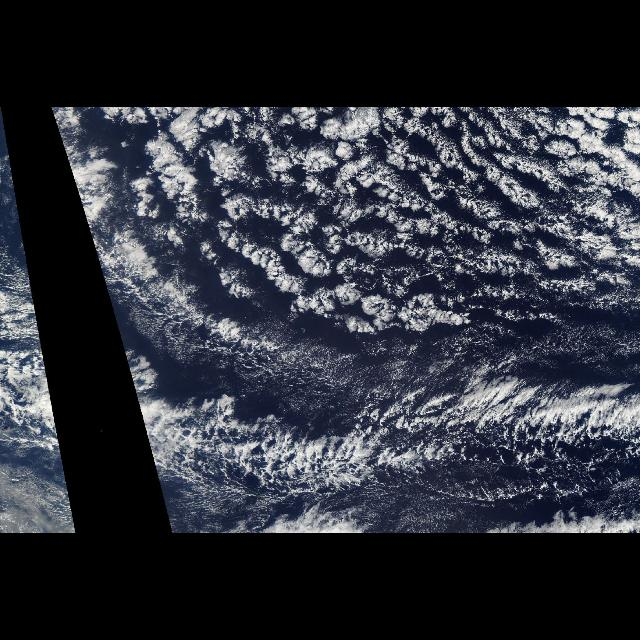Flower: (130, 110, 616, 338)
